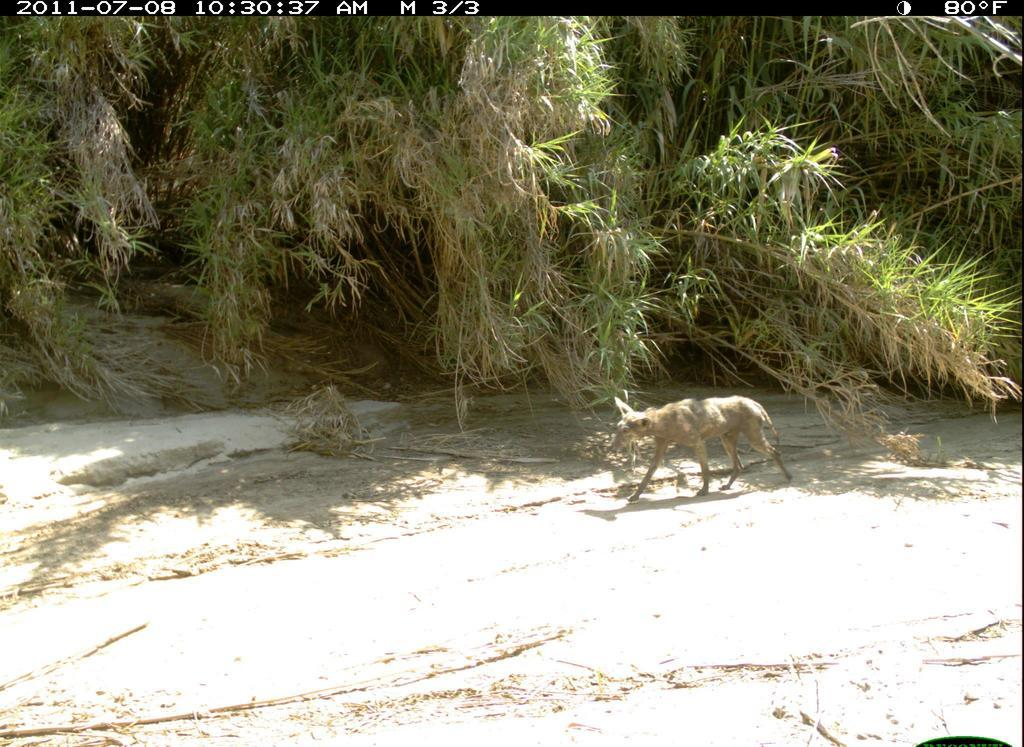coyote: (588, 381, 801, 514)
